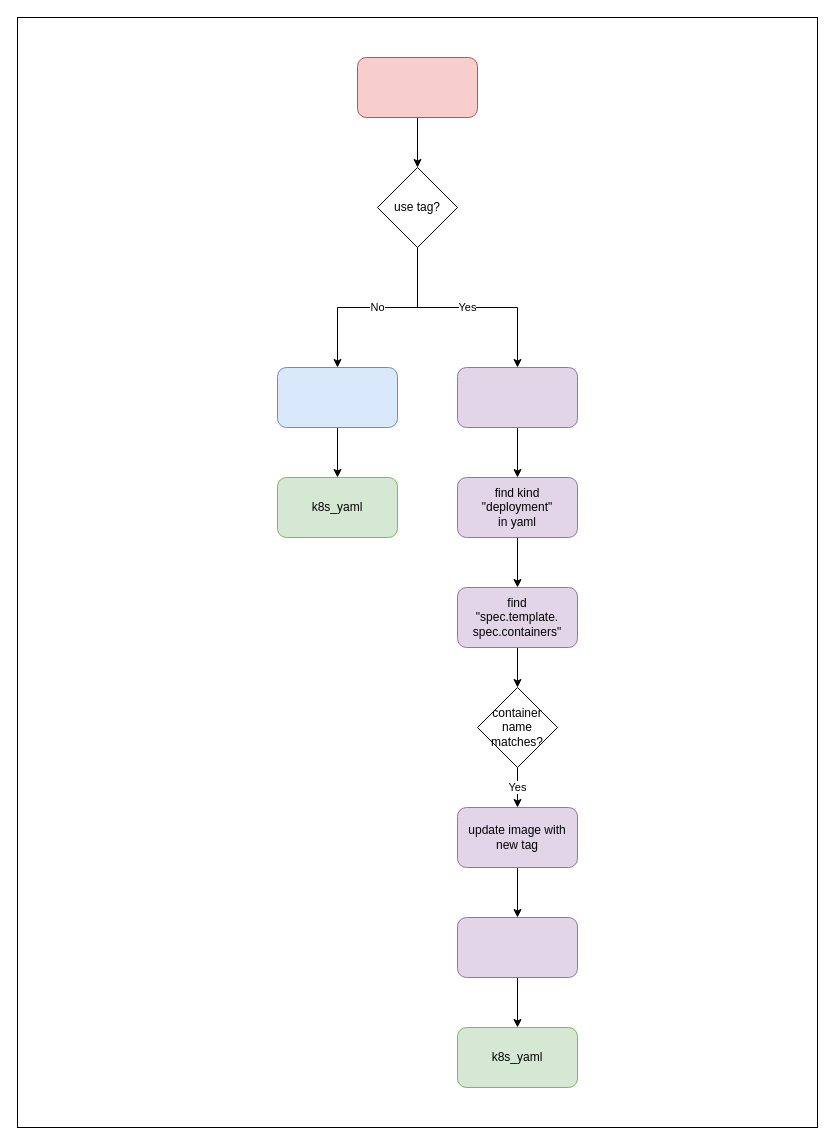
Image size: 835x1145. Some labels were removed from this diagram. The shapes that lost their labels are listed below. From the top down, each one's centre as x and y in pixels, then its label:
At [417,87]: "kustomize".
At [337,397]: "docker_build".
At [517,397]: "decode_yaml_stream".
At [517,947]: "encode_yaml_stream".
